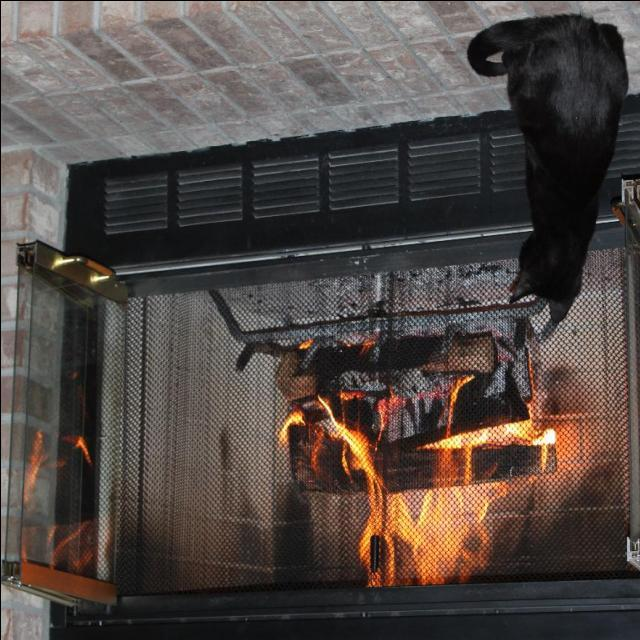Fire: (1, 104, 640, 640)
